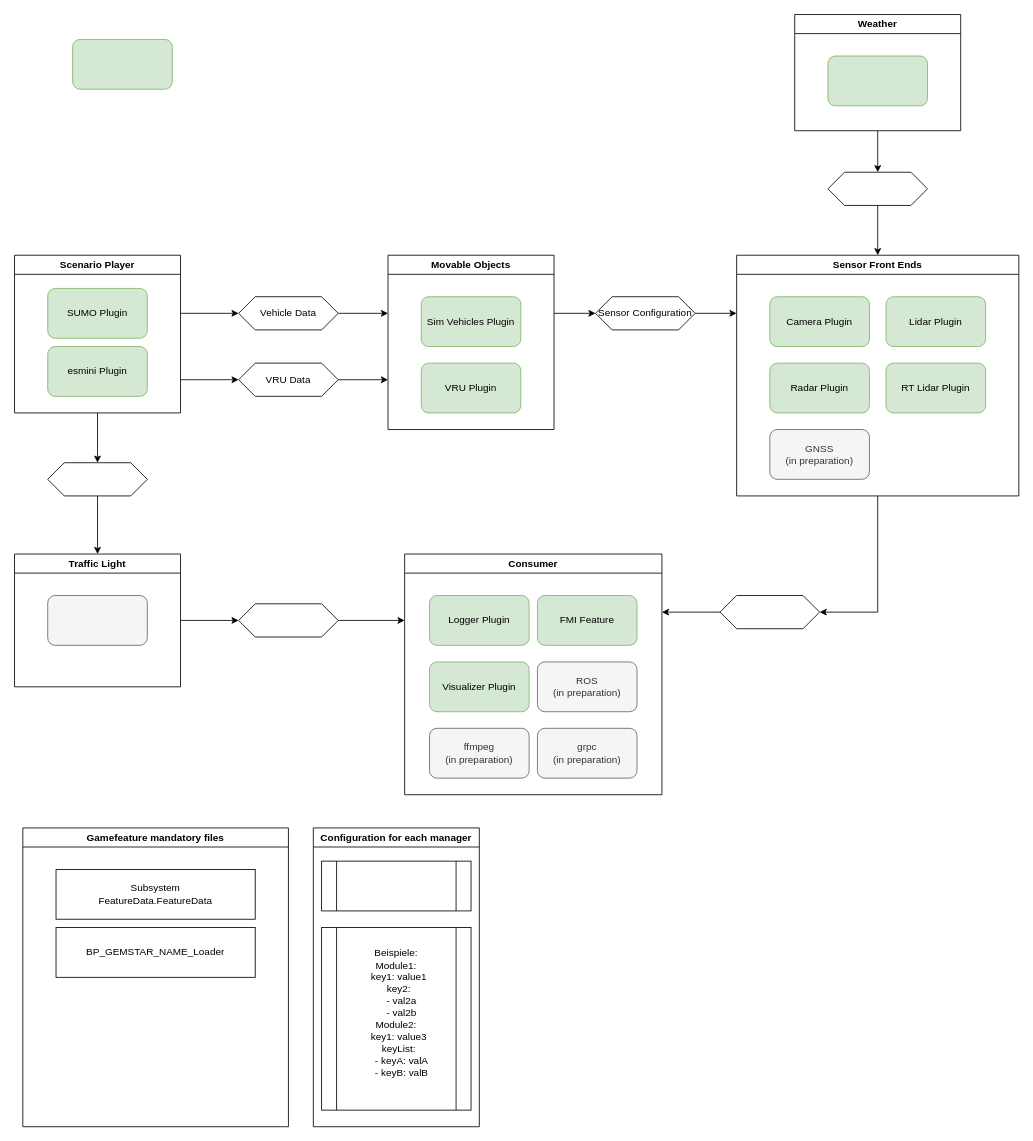
The diagram is 1033 pixels wide and 1141 high, and some of its shapes have lost their labels. Each missing label, with the centre of its shape:
Interface Plugin: the point at 122,64
Map<String, Map<String, Object>>: the point at 396,885
OSI Traffic Light: the point at 288,620
Sensor View Sensor Data: the point at 769,612
Traffic Light Data: the point at 97,479
Traffic Light Plugin (in preparation): the point at 97,620
Weather Effect Plugin: the point at 877,80
Weather Effects: the point at 877,188
